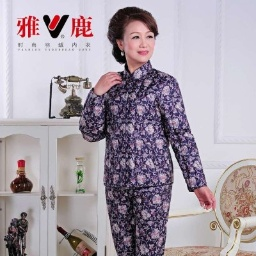face: (102, 5, 166, 77)
